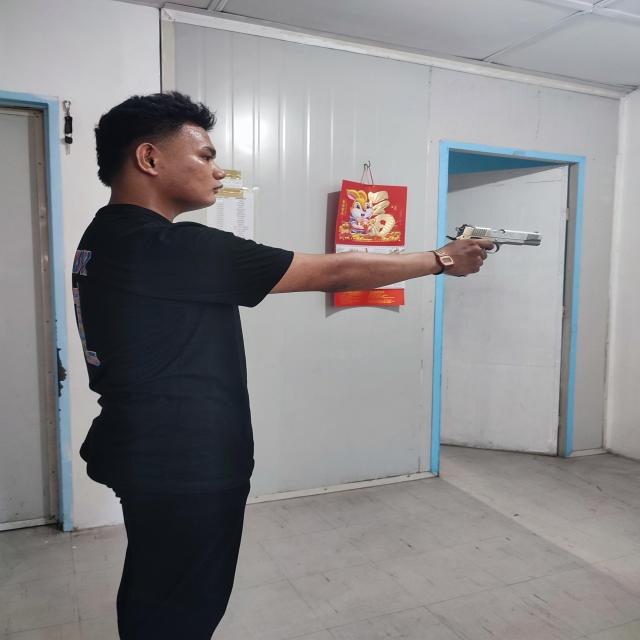pistol: (445, 223, 542, 253)
